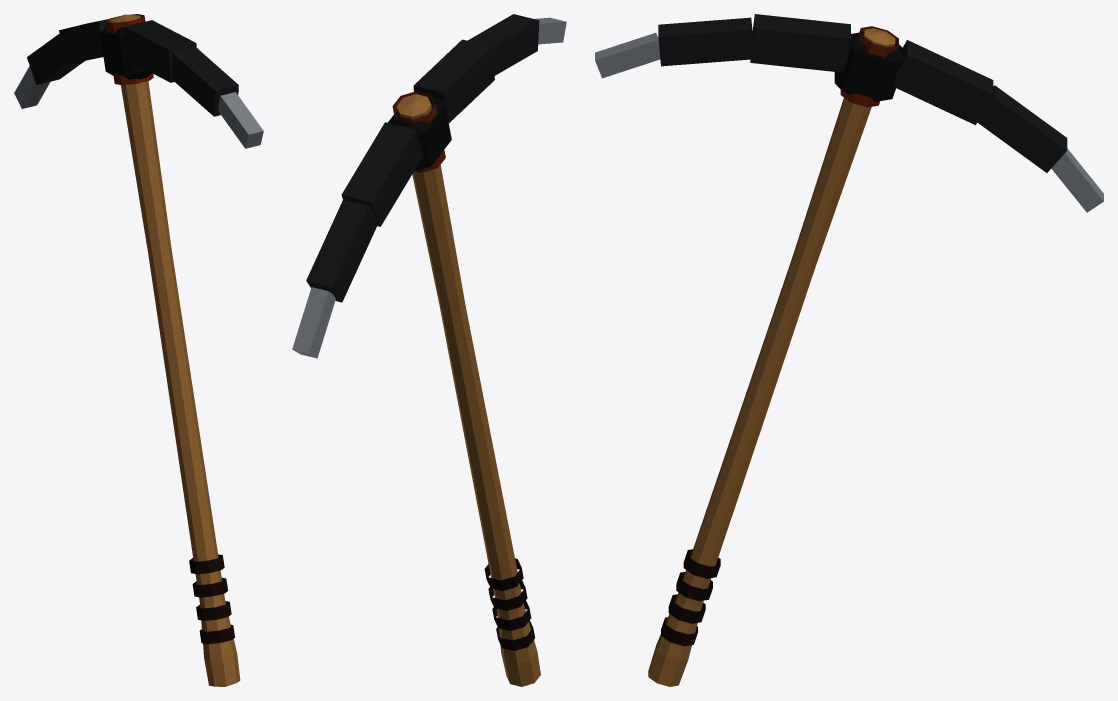
File: SM_Wep_Pickaxe.glb
3 views of the same model, side by side, from view 1: azimuth 30°, elevation 25°; view 2: azimuth 150°, elevation 25°; view 3: azimuth 270°, elevation 25° (orthographic). The views are drawn at different scales.
Parts seen in each view (by area): view 1: SM_Wep_Pickaxe; view 2: SM_Wep_Pickaxe; view 3: SM_Wep_Pickaxe.
Boxes of the visible parts, left/top/right/bottom form: SM_Wep_Pickaxe: left=14, top=14, right=263, bottom=686; SM_Wep_Pickaxe: left=292, top=14, right=566, bottom=686; SM_Wep_Pickaxe: left=595, top=14, right=1103, bottom=686.
Bounding box in the file's own units: 0.05 × 0.8428 × 0.5877.
1 material, 1 textured.
